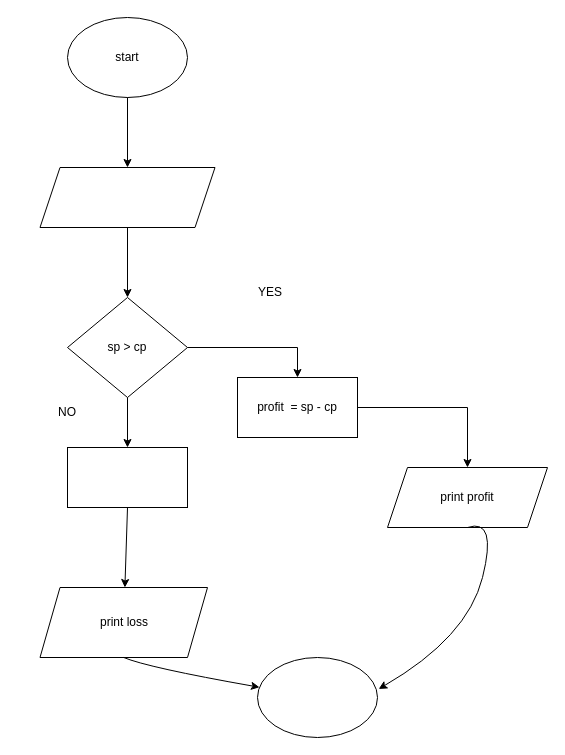
The diagram is 565 pixels wide and 755 high, and some of its shapes have lost their labels. Each missing label, with the centre of its shape:
end: the point at 317,697
input sp , cp: the point at 127,197
loss = cp - sp: the point at 127,477
